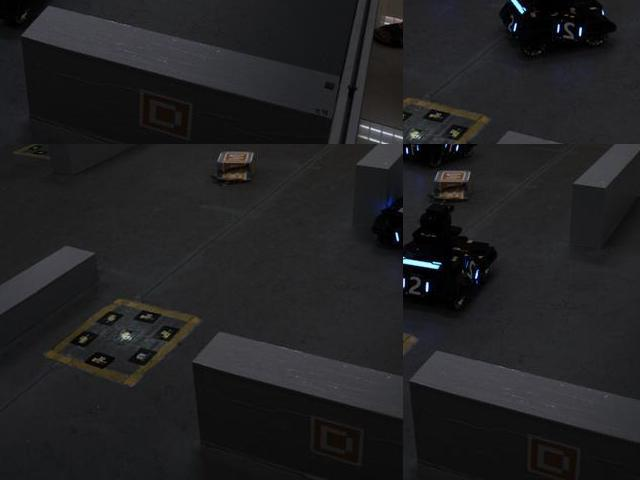armor: (553, 17, 587, 46), (403, 271, 434, 302), (463, 256, 487, 286), (503, 7, 520, 38), (403, 144, 425, 162), (441, 144, 466, 159), (392, 221, 402, 249)
